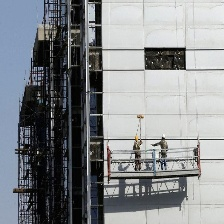person: (155, 131, 169, 171), (132, 134, 143, 172)
